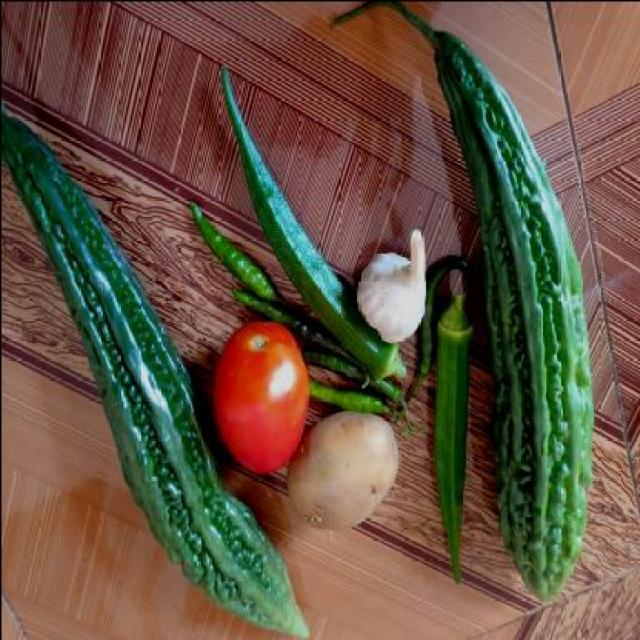Bitter melon: (464, 13, 590, 604)
Garlic: (356, 232, 430, 346)
Green Chili: (175, 196, 274, 310)
Lady finger: (429, 290, 478, 596)
Potato: (280, 408, 402, 534)
Tomato: (203, 324, 303, 466)
